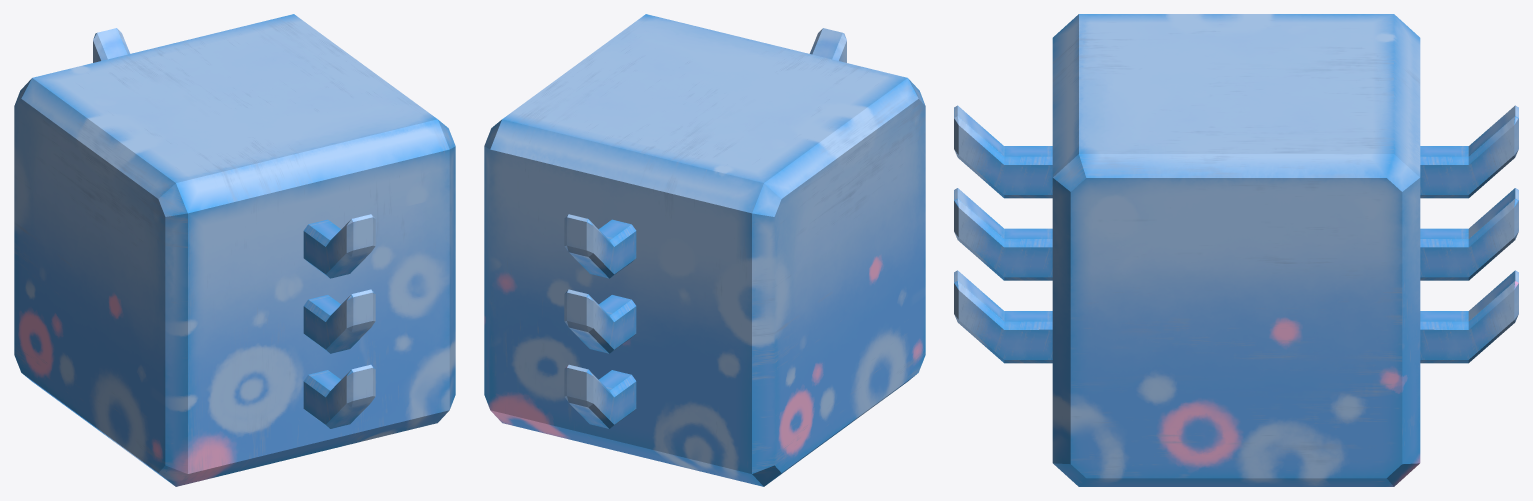
File: worm2_totem_leg.fbx
The picture shows the model from 3 angles, left to right: view 1: azimuth 30°, elevation 25°; view 2: azimuth 150°, elevation 25°; view 3: azimuth 270°, elevation 25°; orthographic projection. The views are drawn at different scales.
Visible parts, largest first — view 1: Cube.006, Cube.006.frozen; view 2: Cube.006, Cube.006.frozen; view 3: Cube.006, Cube.006.frozen.
Part boxes in pixels (left/top/right/bottom): Cube.006: left=14, top=14, right=455, bottom=486; Cube.006.frozen: left=93, top=28, right=375, bottom=428; Cube.006: left=484, top=14, right=925, bottom=486; Cube.006.frozen: left=564, top=28, right=846, bottom=428; Cube.006: left=1052, top=14, right=1420, bottom=486; Cube.006.frozen: left=954, top=105, right=1518, bottom=363.
Bounding box in the file's own units: 100 × 100 × 154.
Materials: 1 (1 with a texture image).
